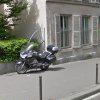Motorcycle: (8, 39, 66, 80)
